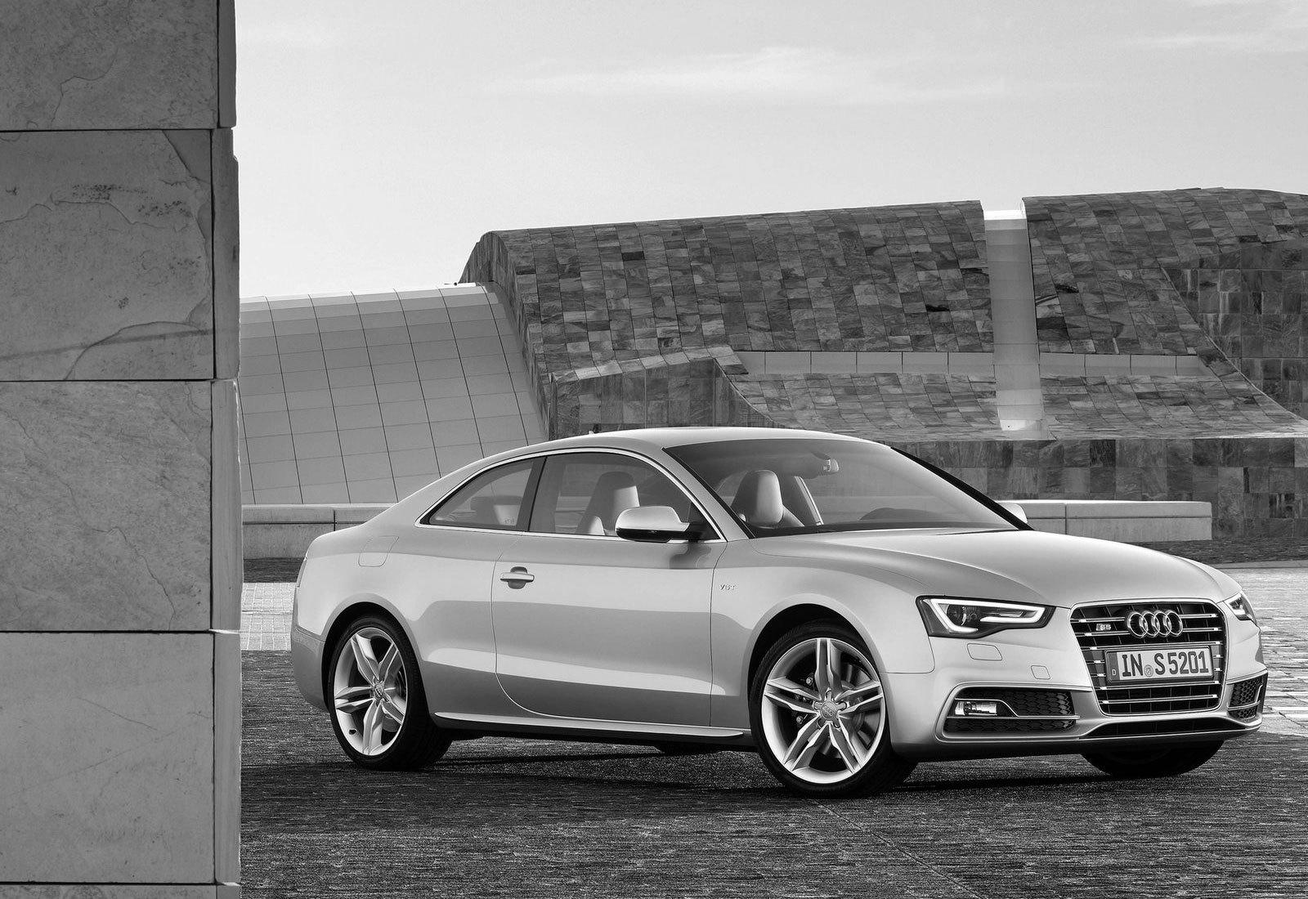car: (286, 426, 1271, 798)
